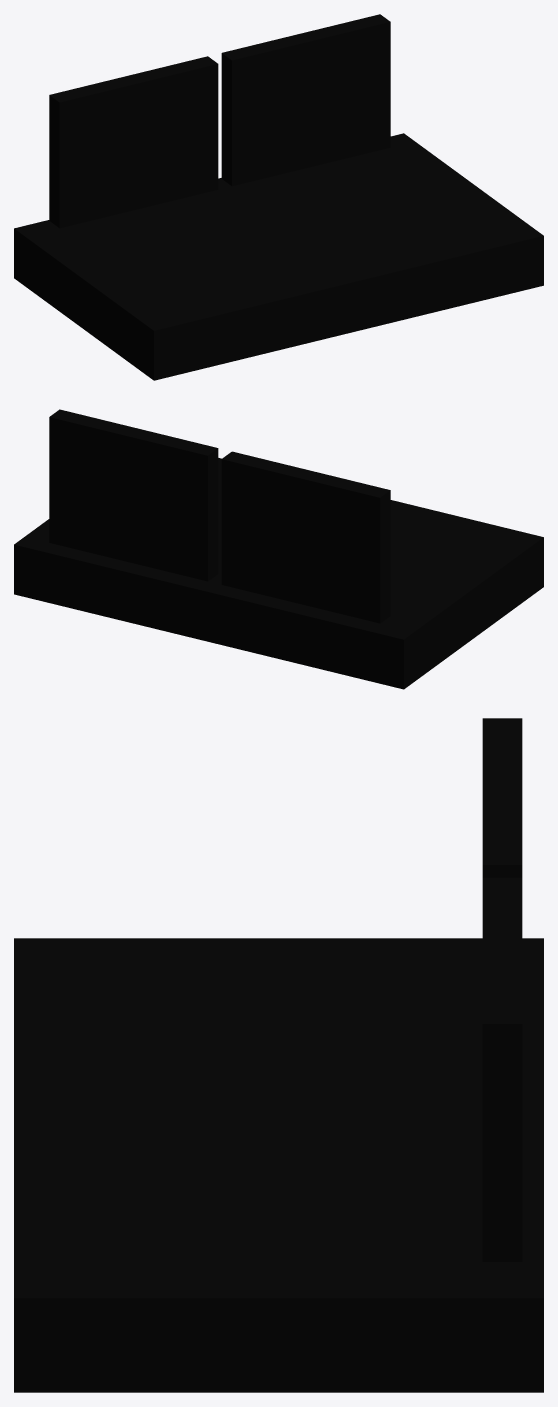
Rendered from workpiece_xuantie_boots_ground.obj.
3 views of the same model, one above another, from view 1: azimuth 30°, elevation 25°; view 2: azimuth 150°, elevation 25°; view 3: azimuth 270°, elevation 25° (orthographic). The views are drawn at different scales.
Visible parts, largest first — view 1: geometry; view 2: geometry; view 3: geometry.
Part boxes in pixels (<box>): geometry: <box>14,14,543,380</box>; geometry: <box>14,409,543,689</box>; geometry: <box>14,718,543,1392</box>.
Bounding box in the file's own units: 0.5375 × 0.2375 × 0.3344.
